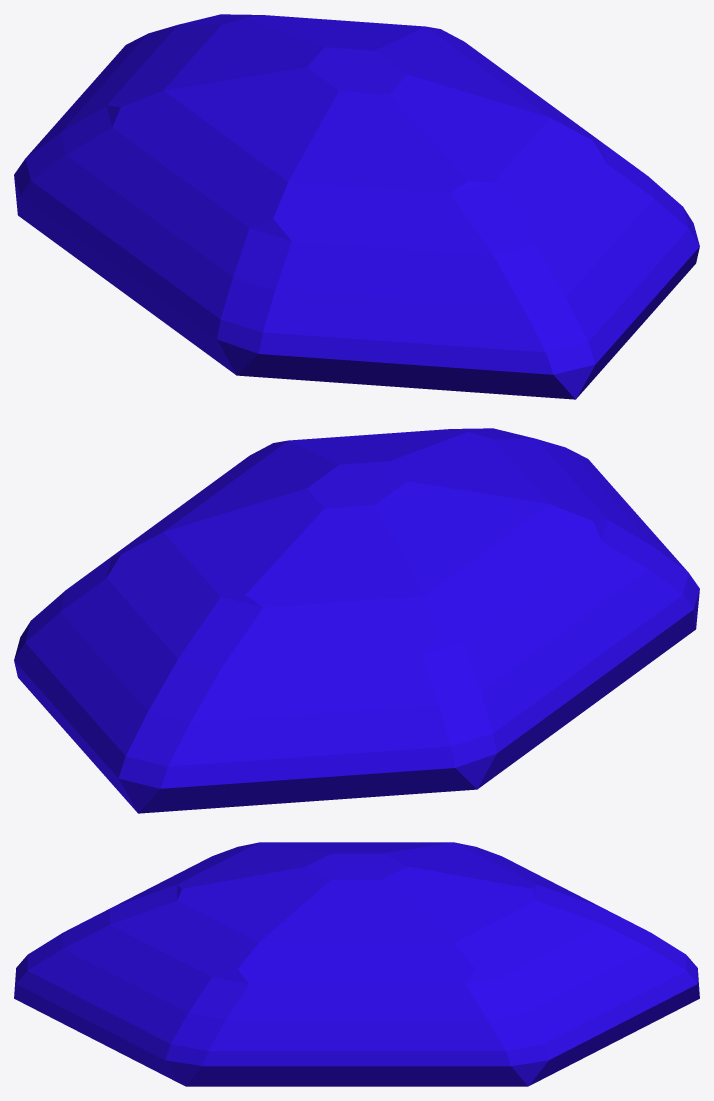
The model's file is Mushroom_Head 02.fbx.
The picture shows the model from 3 angles, top to bottom: view 1: azimuth 30°, elevation 25°; view 2: azimuth 150°, elevation 25°; view 3: azimuth 270°, elevation 25°; orthographic projection. The views are drawn at different scales.
Parts seen in each view (by area): view 1: Mushroom_Head 02; view 2: Mushroom_Head 02; view 3: Mushroom_Head 02.
Part boxes in pixels (<box>): Mushroom_Head 02: <box>14,14,699,399</box>; Mushroom_Head 02: <box>14,428,699,813</box>; Mushroom_Head 02: <box>14,842,699,1086</box>.
Bounding box in the file's own units: 60.61 × 20.94 × 96.4.
